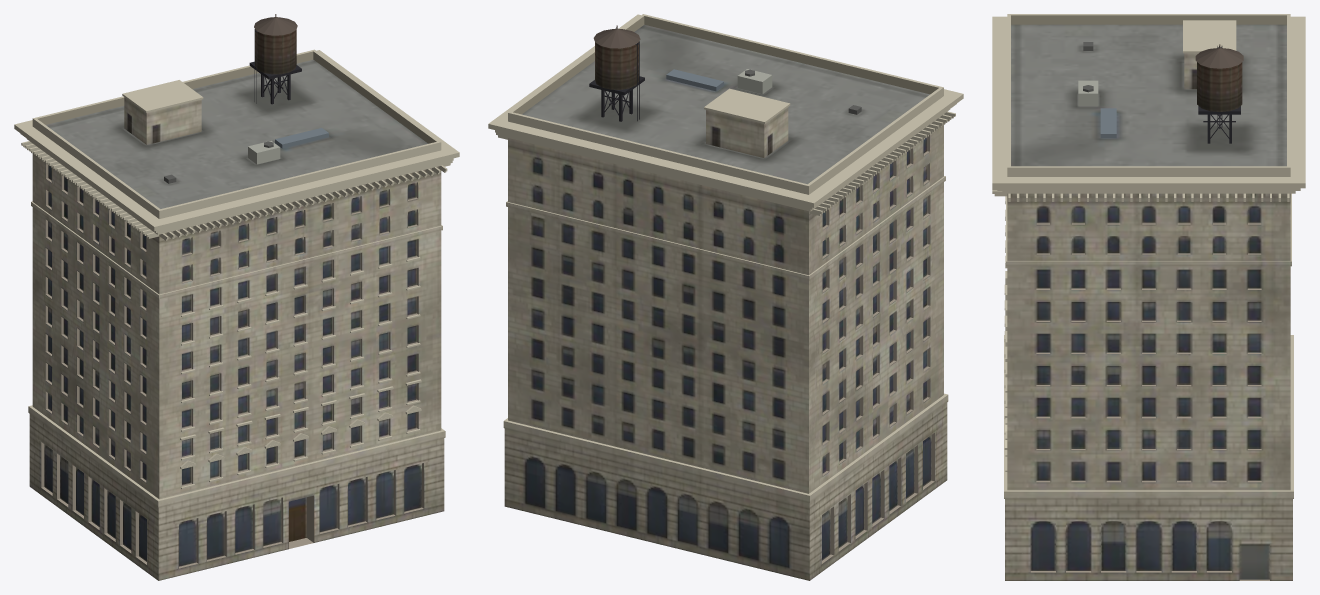
Rendered from nyc_limestone_a.glb.
3 views of the same model, side by side, from view 1: azimuth 30°, elevation 25°; view 2: azimuth 150°, elevation 25°; view 3: azimuth 270°, elevation 25° (orthographic). The views are drawn at different scales.
Visible parts, largest first — view 1: nyc_limestone_a; view 2: nyc_limestone_a; view 3: nyc_limestone_a.
Part boxes in pixels (<box>): nyc_limestone_a: <box>14,14,459,580</box>; nyc_limestone_a: <box>488,14,963,580</box>; nyc_limestone_a: <box>992,14,1305,580</box>.
Size of the model in its own units: 39 by 54.25 by 31.
Materials: 1 (1 with a texture image).
